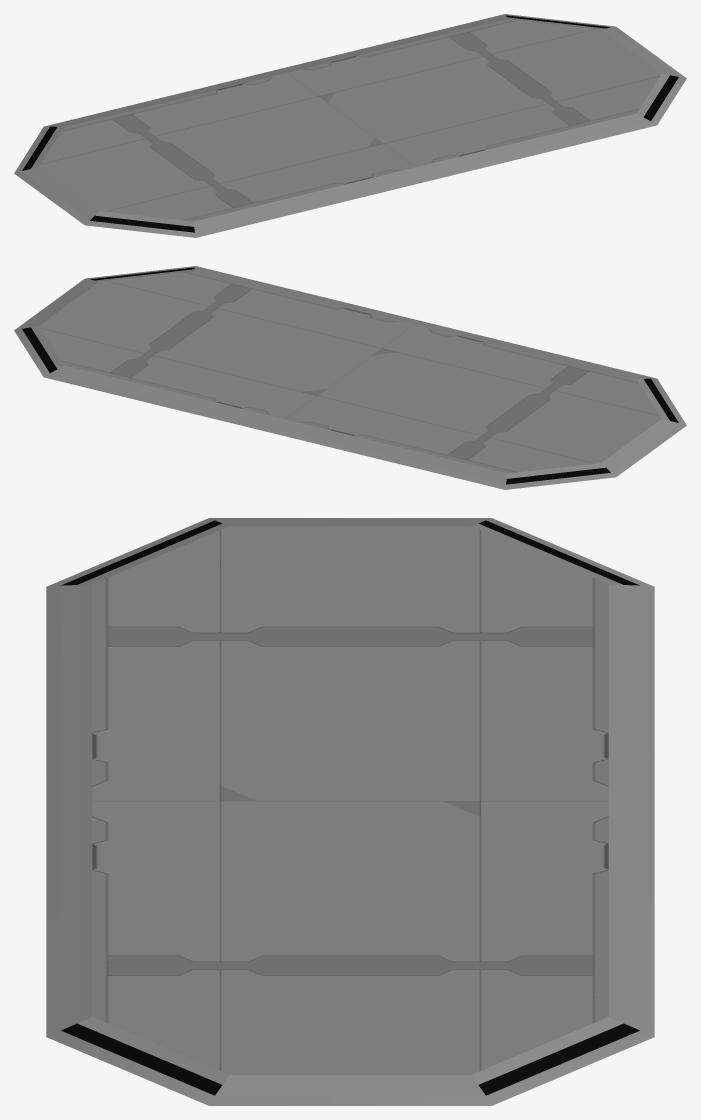
Rendered from SM_Floor_5x10_4.fbx.
The picture shows the model from 3 angles, top to bottom: view 1: azimuth 30°, elevation 25°; view 2: azimuth 150°, elevation 25°; view 3: azimuth 270°, elevation 25°; orthographic projection. The views are drawn at different scales.
Visible parts, largest first — view 1: SM_Floor_5x10_4; view 2: SM_Floor_5x10_4; view 3: SM_Floor_5x10_4.
Boxes of the visible parts, x1,y1,x2,y2 form: SM_Floor_5x10_4: [14, 14, 686, 237]; SM_Floor_5x10_4: [14, 266, 686, 489]; SM_Floor_5x10_4: [46, 518, 654, 1105].
Bounding box in the file's own units: 889 × 8.1 × 389.
